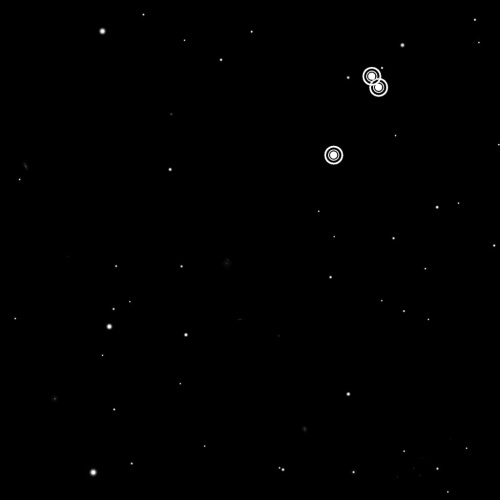canis_minor: (321, 61, 394, 169)
